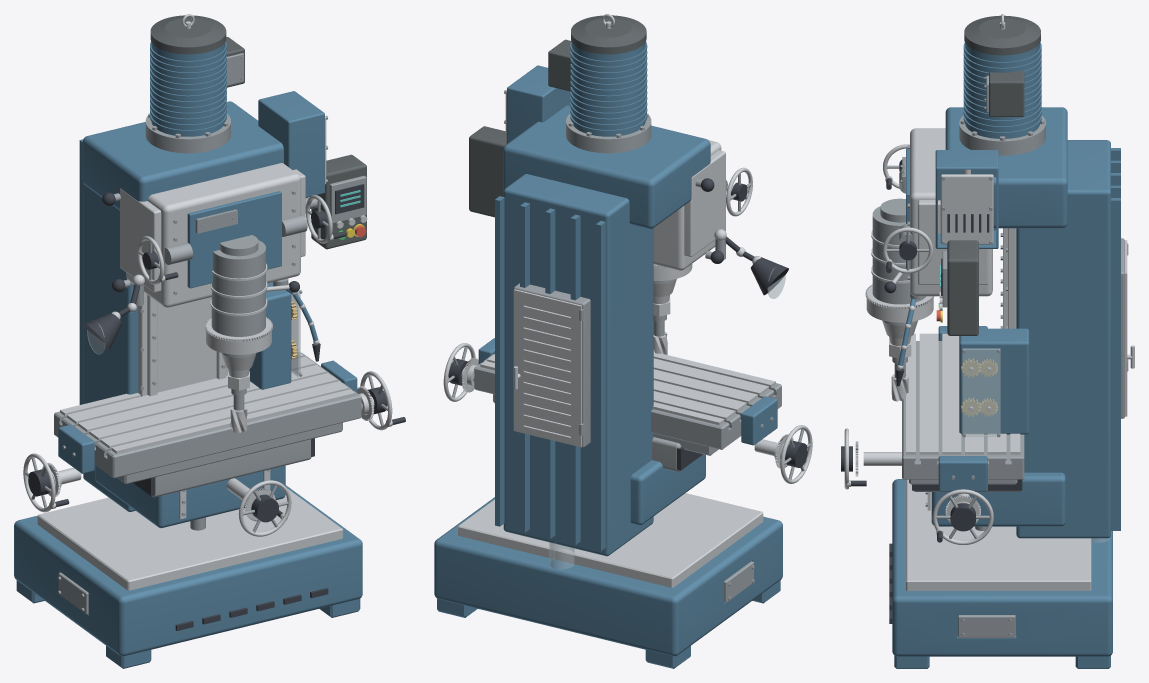
Rendered from fresadora-02-1.glb.
3 renders of one model, left to right at view 1: azimuth 30°, elevation 25°; view 2: azimuth 150°, elevation 25°; view 3: azimuth 270°, elevation 25°, orthographic.
Parts seen in each view (by area): view 1: base__1, base__2, mesa__3, cabecote__3, coluna__1, cabecote__1, mesa__2, coluna__2, cabecote__2, tampa_correias__1, joelho__1, fuso__1 (+24 smaller); view 2: coluna__1, base__1, cabecote__3, base__2, armario__2, mesa__3, motor__1, coluna__49, coluna__53, mesa__2, joelho__1, tampas_cabecote__1 (+18 smaller); view 3: coluna__1, base__1, base__2, cabecote__3, mesa__3, caixa_avanco__1, joelho__1, mesa__2, tampa_correias__2, tampa_caixa_avanco__1, coluna__53, cabecote__1 (+25 smaller).
Boxes of the visible parts, x1,y1,x2,y2 form: base__1: [14, 485, 362, 656]; base__2: [37, 488, 343, 590]; mesa__3: [60, 352, 355, 453]; cabecote__3: [82, 101, 283, 210]; coluna__1: [83, 183, 138, 511]; cabecote__1: [126, 163, 300, 307]; mesa__2: [54, 352, 361, 478]; coluna__2: [138, 292, 228, 396]; cabecote__2: [187, 191, 281, 288]; tampa_correias__1: [258, 91, 324, 197]; joelho__1: [95, 465, 285, 528]; fuso__1: [211, 240, 265, 336]; coluna__1: [503, 174, 653, 556]; base__1: [434, 497, 782, 656]; cabecote__3: [503, 105, 710, 228]; base__2: [458, 493, 763, 587]; armario__2: [513, 289, 581, 447]; mesa__3: [480, 352, 775, 425]; motor__1: [571, 42, 645, 136]; coluna__49: [596, 221, 605, 551]; coluna__53: [495, 196, 504, 526]; mesa__2: [474, 353, 781, 449]; joelho__1: [630, 454, 705, 525]; tampas_cabecote__1: [684, 150, 725, 256]; coluna__1: [1016, 140, 1110, 538]; base__1: [892, 479, 1112, 656]; base__2: [906, 479, 1091, 590]; cabecote__3: [945, 107, 1067, 228]; mesa__3: [906, 333, 1020, 454]; caixa_avanco__1: [959, 328, 1029, 434]; joelho__1: [931, 472, 1065, 526]; mesa__2: [902, 341, 1024, 479]; tampa_correias__2: [940, 174, 993, 244]; tampa_caixa_avanco__1: [962, 348, 1000, 436]; coluna__53: [1111, 198, 1120, 530]; cabecote__1: [910, 128, 992, 296].
Bounding box in the file's own units: 2.13 × 3.34 × 1.49.
